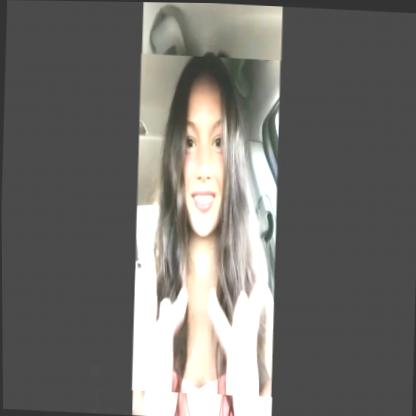Internet: (129, 53, 283, 397)
